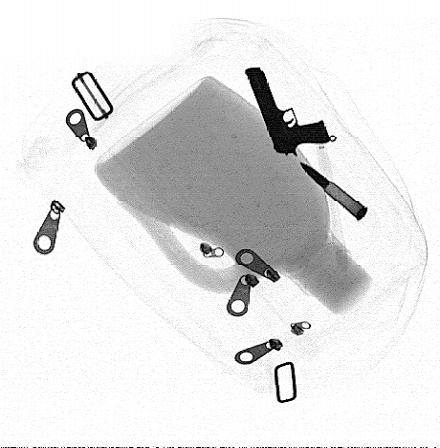Bullet: (299, 161, 367, 220)
Gun: (245, 67, 332, 156)
